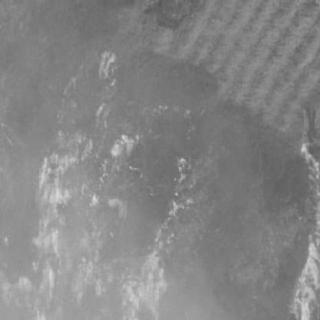Fire: (10, 47, 194, 319), (294, 133, 320, 320)
